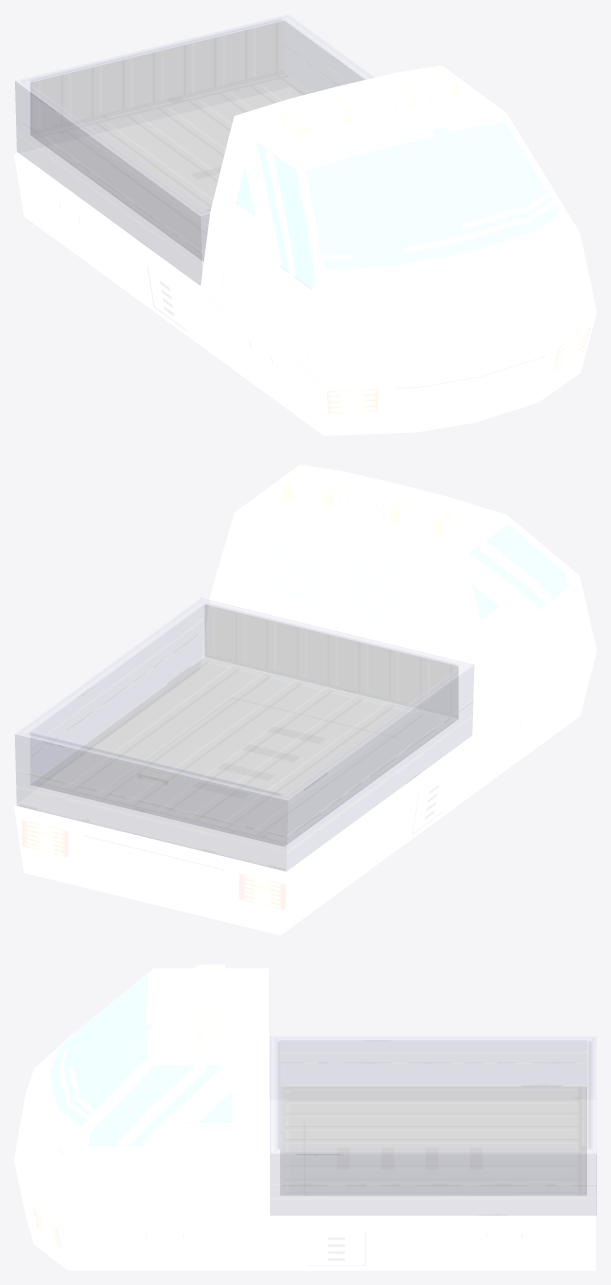
The model's file is hover-municipal.glb.
3 views of the same model, one above another, from view 1: azimuth 30°, elevation 25°; view 2: azimuth 150°, elevation 25°; view 3: azimuth 270°, elevation 25° (orthographic). The views are drawn at different scales.
Parts seen in each view (by area): view 1: hover-municipal; view 2: hover-municipal; view 3: hover-municipal.
Boxes of the visible parts, bbox=[...] form: hover-municipal: bbox=[14, 14, 596, 435]; hover-municipal: bbox=[14, 464, 596, 935]; hover-municipal: bbox=[14, 964, 596, 1270].
Size of the model in its own units: 1.23 by 1.06 by 2.56.
Materials: 2 (2 with a texture image).
